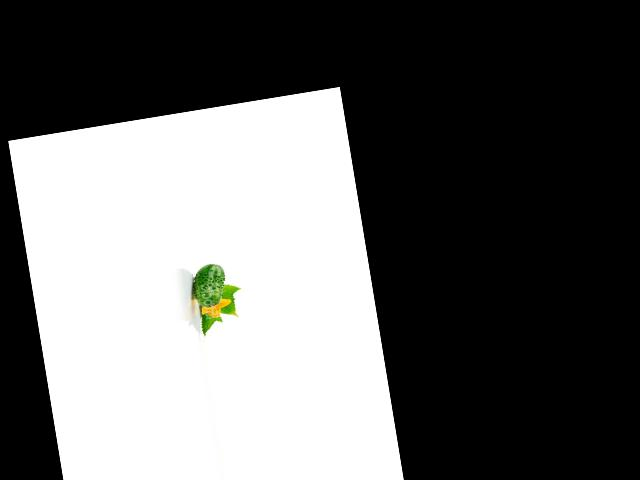cucumber: (189, 261, 229, 308)
